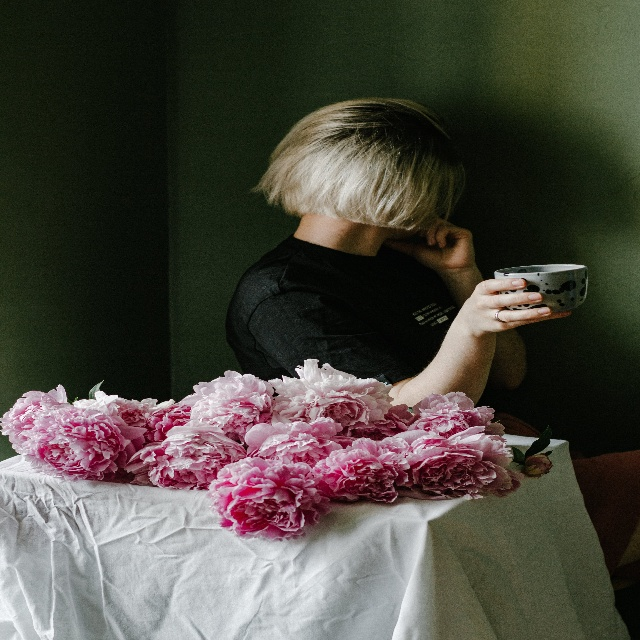Sin_guantes: (464, 275, 572, 337), (389, 218, 479, 271)
